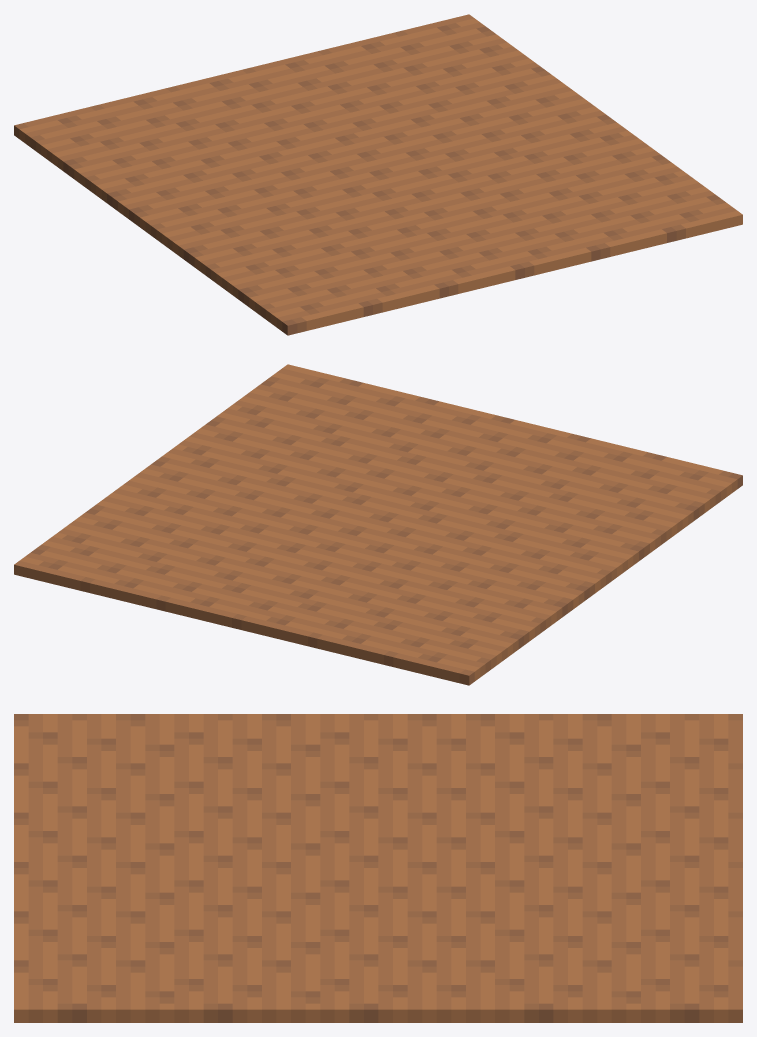
File: Interior_Furniture_Misc_Floor.obj
3 renders of one model, top to bottom at view 1: azimuth 30°, elevation 25°; view 2: azimuth 150°, elevation 25°; view 3: azimuth 270°, elevation 25°, orthographic. The views are drawn at different scales.
Size of the model in its own units: 4.8 by 0.1 by 5.
Materials: 1 (1 with a texture image).
